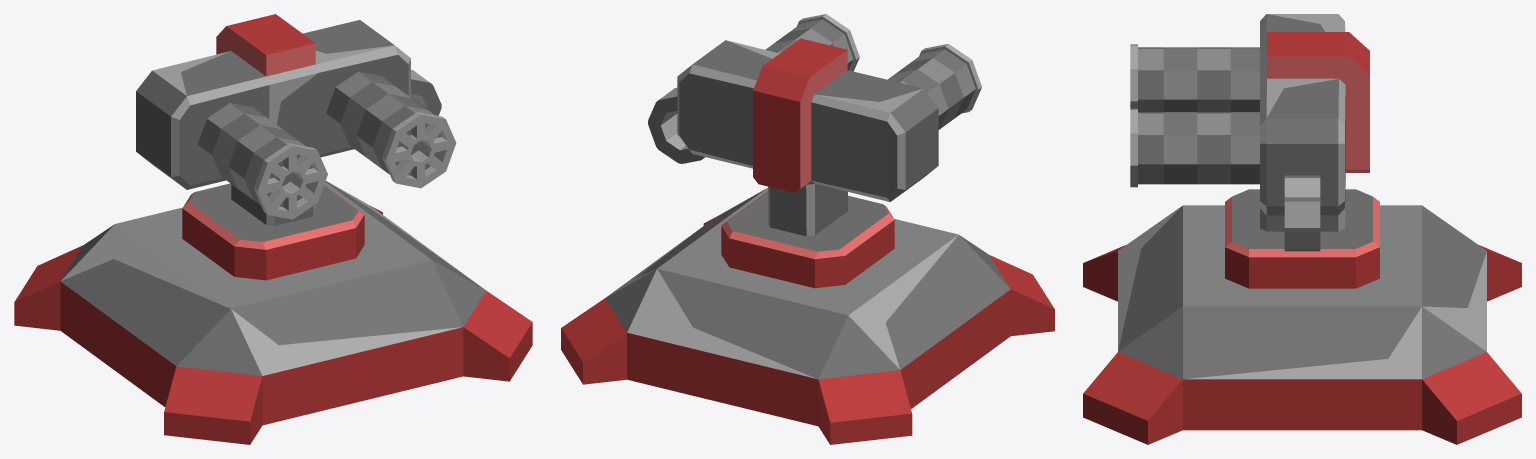
File: tower_gatling_red_1.fbx
The picture shows the model from 3 angles, left to right: view 1: azimuth 30°, elevation 25°; view 2: azimuth 150°, elevation 25°; view 3: azimuth 270°, elevation 25°; orthographic projection. The views are drawn at different scales.
Parts seen in each view (by area): view 1: tower_gatling_red_1, top_gatling_red_1; view 2: tower_gatling_red_1, top_gatling_red_1; view 3: tower_gatling_red_1, top_gatling_red_1.
Part boxes in pixels (bbox=[...]): tower_gatling_red_1: bbox=[14, 181, 532, 444]; top_gatling_red_1: bbox=[136, 14, 456, 280]; tower_gatling_red_1: bbox=[561, 188, 1054, 444]; top_gatling_red_1: bbox=[648, 14, 981, 288]; tower_gatling_red_1: bbox=[1083, 205, 1521, 444]; top_gatling_red_1: bbox=[1130, 14, 1379, 288].
Bounding box in the file's own units: 158 × 122 × 158.
